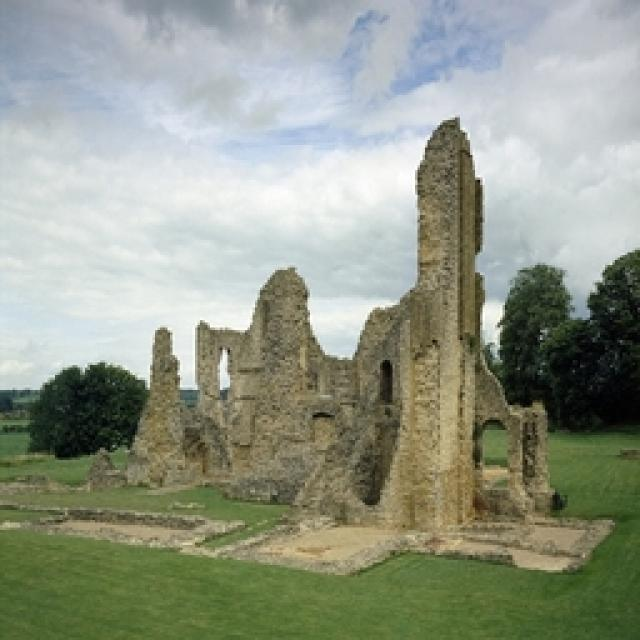Abbey: (119, 114, 564, 536)
